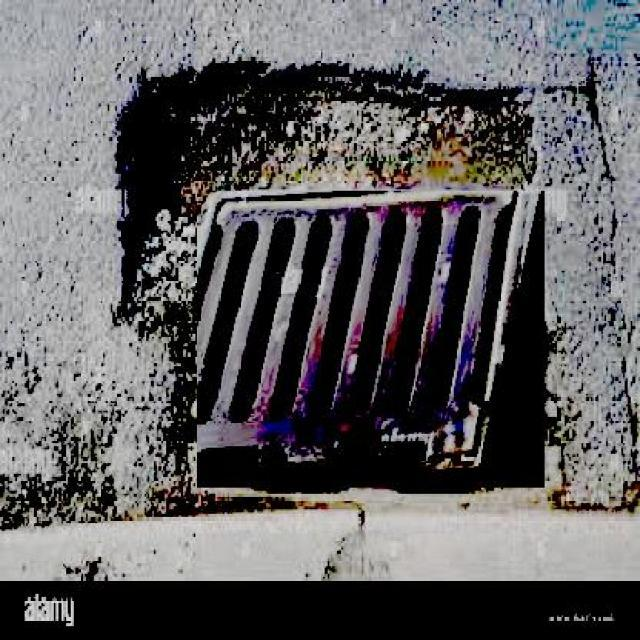Manhole: (197, 190, 545, 488)
Pothole: (86, 44, 580, 191), (59, 201, 191, 478)
